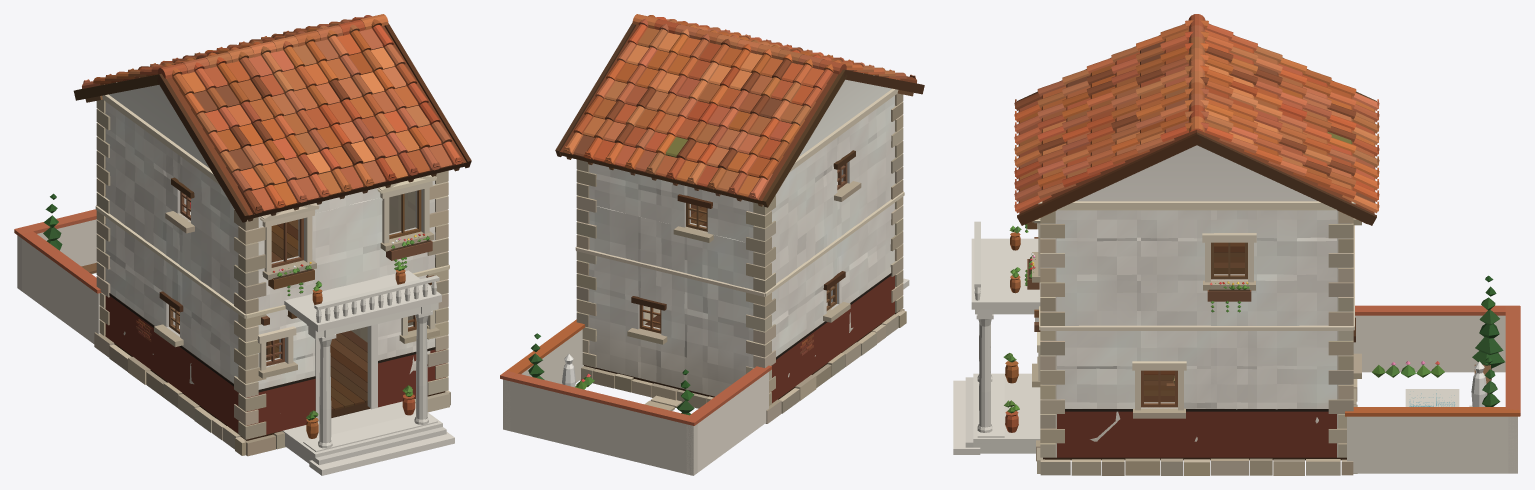
File: patrician_1_2.glb
3 renders of one model, left to right at view 1: azimuth 30°, elevation 25°; view 2: azimuth 150°, elevation 25°; view 3: azimuth 270°, elevation 25°, orthographic. The views are drawn at different scales.
Visible parts, largest first — view 1: House, Walls, Rooms; view 2: House, Walls, Rooms; view 3: House, Walls, Rooms.
Boxes of the visible parts, x1,y1,x2,y2 form: House: [14, 14, 471, 475]; Walls: [105, 85, 445, 418]; Rooms: [179, 191, 415, 410]; House: [500, 14, 924, 475]; Walls: [579, 79, 895, 396]; Rooms: [644, 173, 837, 328]; House: [953, 14, 1520, 475]; Walls: [1042, 145, 1351, 457]; Rooms: [1144, 242, 1244, 402].
Size of the model in its own units: 4.11 by 5.76 by 8.43.
Materials: 3 (3 with a texture image).
